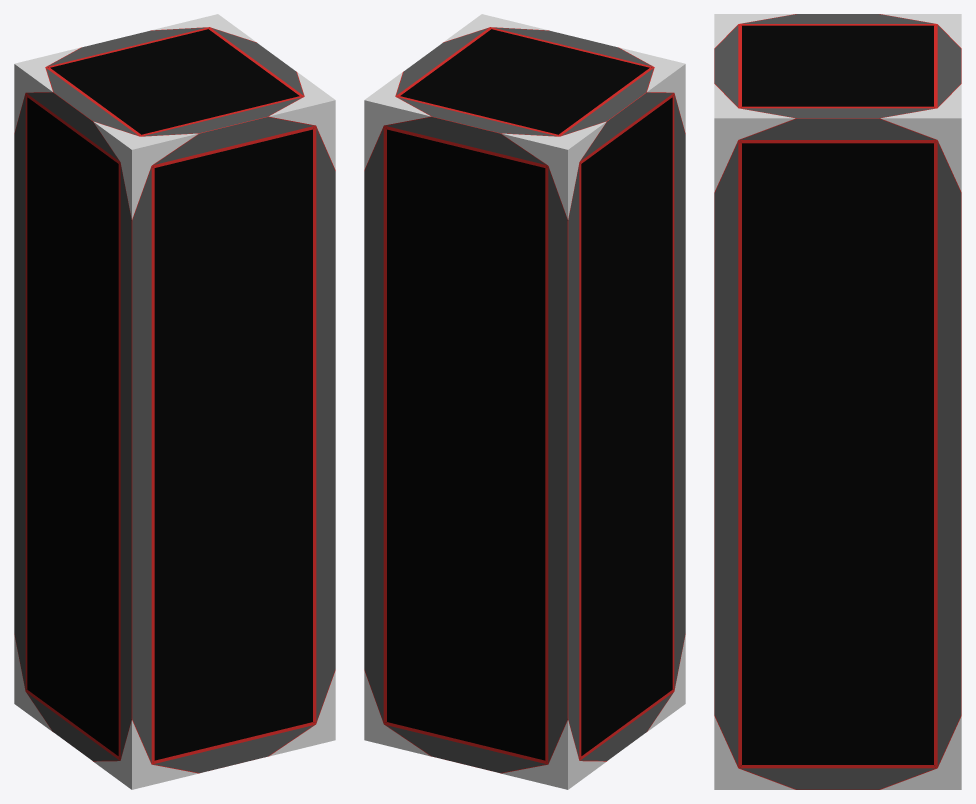
Rendered from wallPlatform.fbx.
The picture shows the model from 3 angles, left to right: view 1: azimuth 30°, elevation 25°; view 2: azimuth 150°, elevation 25°; view 3: azimuth 270°, elevation 25°; orthographic projection. The views are drawn at different scales.
Visible parts, largest first — view 1: Cube; view 2: Cube; view 3: Cube.
Part boxes in pixels (x1,y1,x2,y2): Cube: [14, 14, 335, 789]; Cube: [364, 14, 685, 789]; Cube: [714, 14, 961, 789].
Size of the model in its own units: 200 by 600 by 200.
